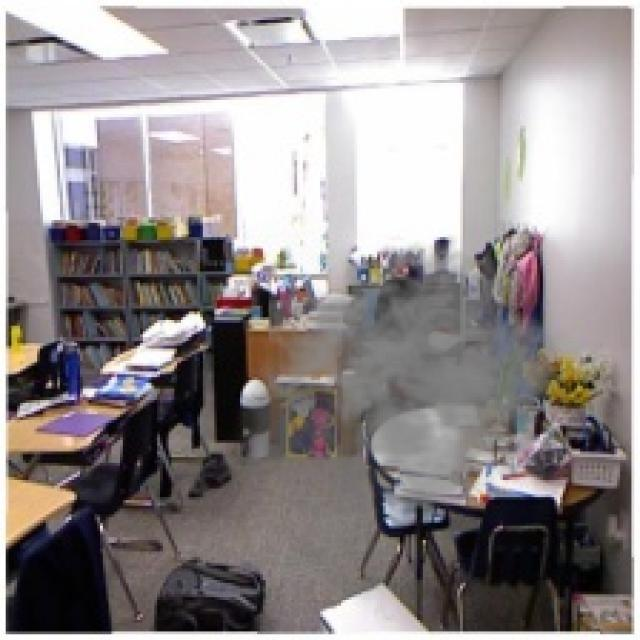Smoke: (225, 234, 580, 606)
